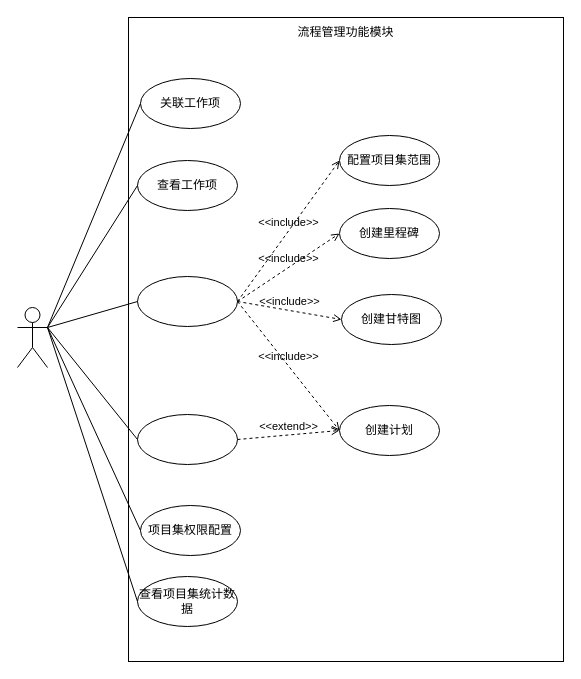
This 581x679 diagram has some shape labels left out. The shapes that lost their labels are listed below. From the top down, each one's centre as x and y in pixels, then its label:
the point at 187,301: 创建项目集
the point at 32,337: 用户
the point at 187,439: 创建工作项
